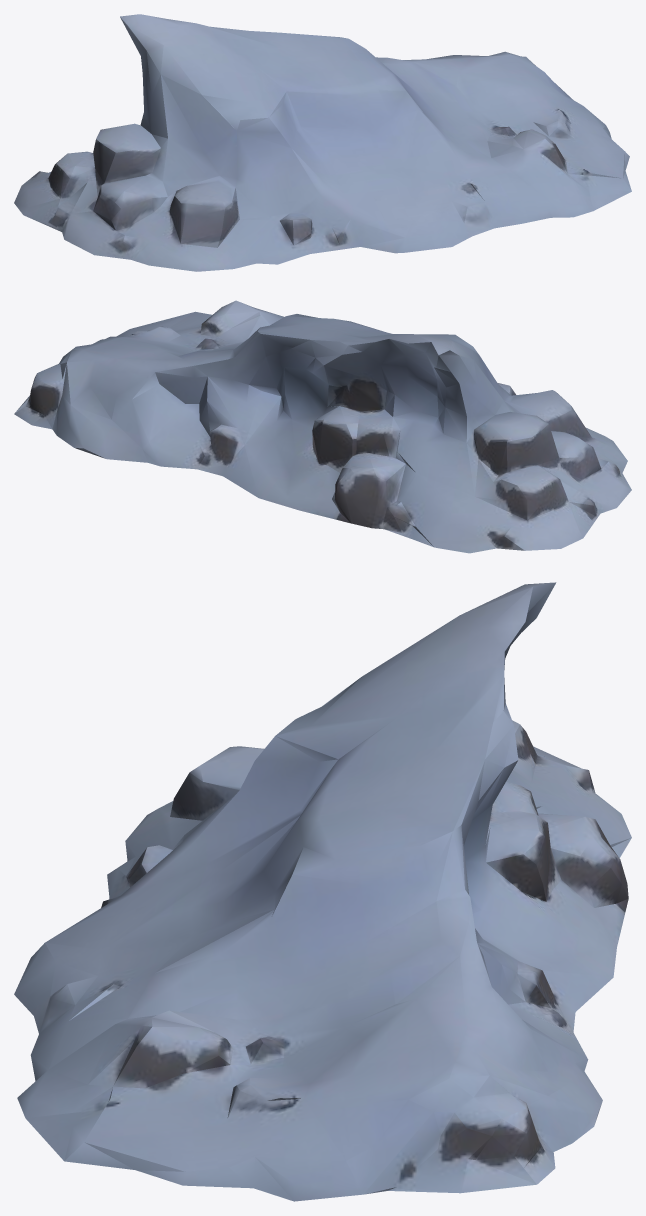
The model's file is snow_drift.glb.
The picture shows the model from 3 angles, top to bottom: view 1: azimuth 30°, elevation 25°; view 2: azimuth 150°, elevation 25°; view 3: azimuth 270°, elevation 25°; orthographic projection. The views are drawn at different scales.
Parts seen in each view (by area): view 1: body; view 2: body; view 3: body.
Part boxes in pixels (left/top/right/bottom): body: left=14, top=14, right=631, bottom=271; body: left=14, top=300, right=631, bottom=553; body: left=14, top=582, right=631, bottom=1201.
Size of the model in its own units: 0.9385 by 0.2795 by 0.556.
Materials: 1 (1 with a texture image).
